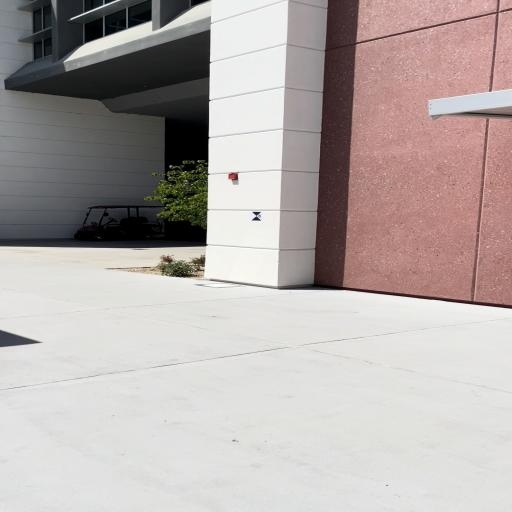target6: (251, 212, 262, 221)
